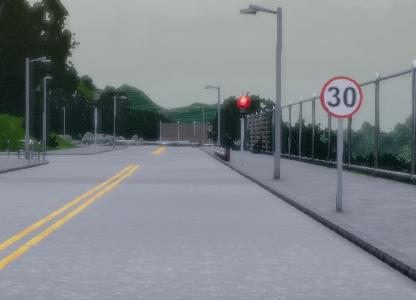Speed_30: (318, 75, 362, 119)
